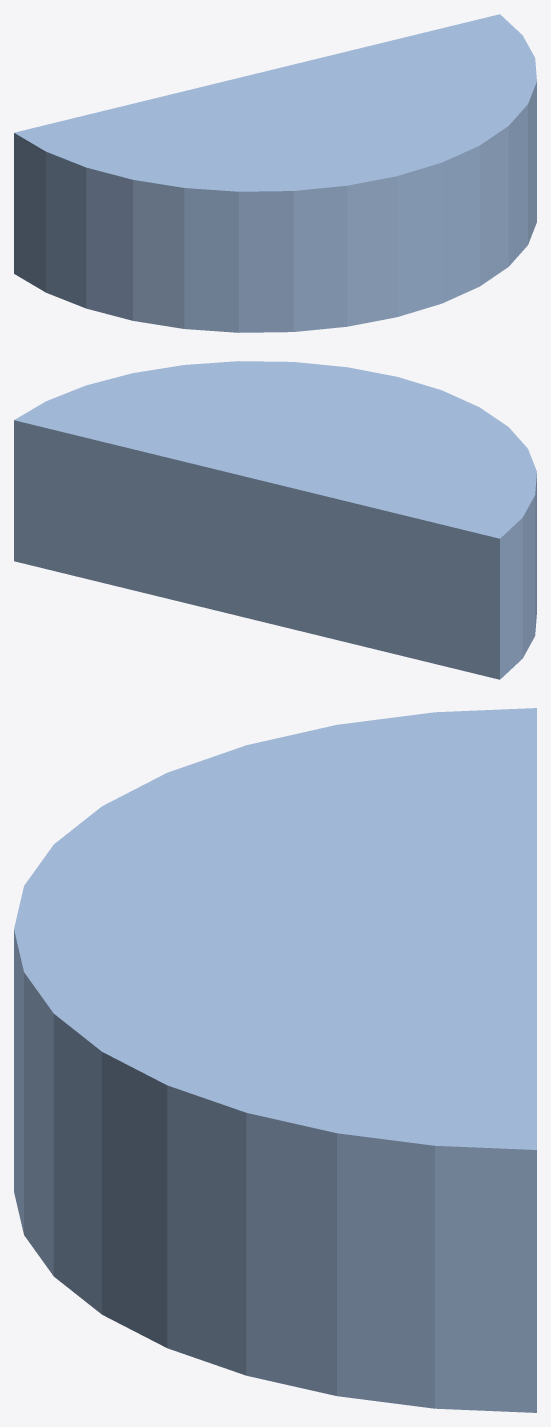
File: hjalf_ice_disk.fbx
3 views of the same model, one above another, from view 1: azimuth 30°, elevation 25°; view 2: azimuth 150°, elevation 25°; view 3: azimuth 270°, elevation 25° (orthographic). The views are drawn at different scales.
Parts seen in each view (by area): view 1: Cylinder; view 2: Cylinder; view 3: Cylinder.
Part boxes in pixels (box(x1,y1,x2,y2)): Cylinder: box(14, 14, 536, 332); Cylinder: box(14, 361, 536, 679); Cylinder: box(14, 708, 536, 1412).
Bounding box in the file's own units: 434 × 120 × 217.
